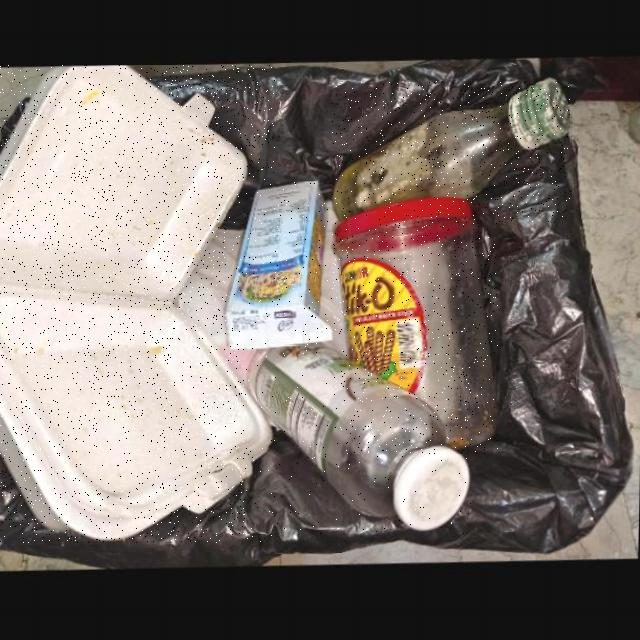glass: (248, 345, 471, 534), (333, 201, 498, 454), (333, 82, 571, 223)
paper: (227, 182, 333, 352)
styrofoam: (0, 66, 275, 543)
